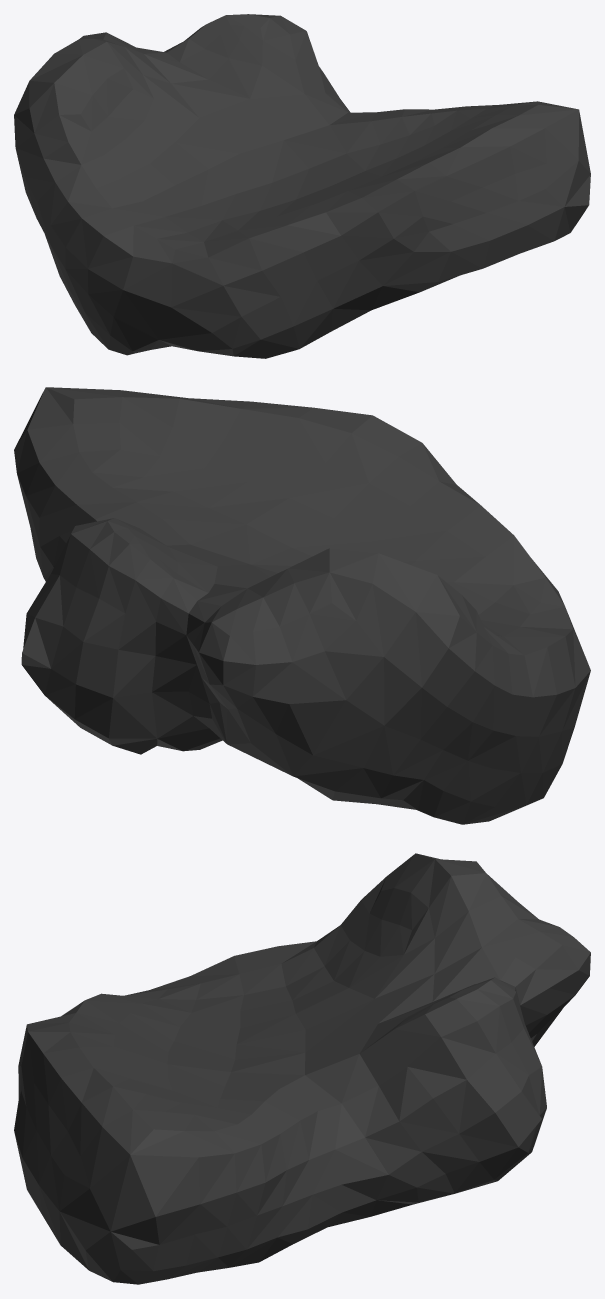
Rendered from Central_tarsal.glb.
The picture shows the model from 3 angles, top to bottom: view 1: azimuth 30°, elevation 25°; view 2: azimuth 150°, elevation 25°; view 3: azimuth 270°, elevation 25°; orthographic projection. The views are drawn at different scales.
Parts seen in each view (by area): view 1: Central_tarsal; view 2: Central_tarsal; view 3: Central_tarsal.
Boxes of the visible parts, bbox=[...] form: Central_tarsal: bbox=[14, 14, 590, 358]; Central_tarsal: bbox=[14, 387, 590, 824]; Central_tarsal: bbox=[14, 853, 590, 1284].
Bounding box in the file's own units: 129 × 63.57 × 112.
Materials: 1 (1 with a texture image).
